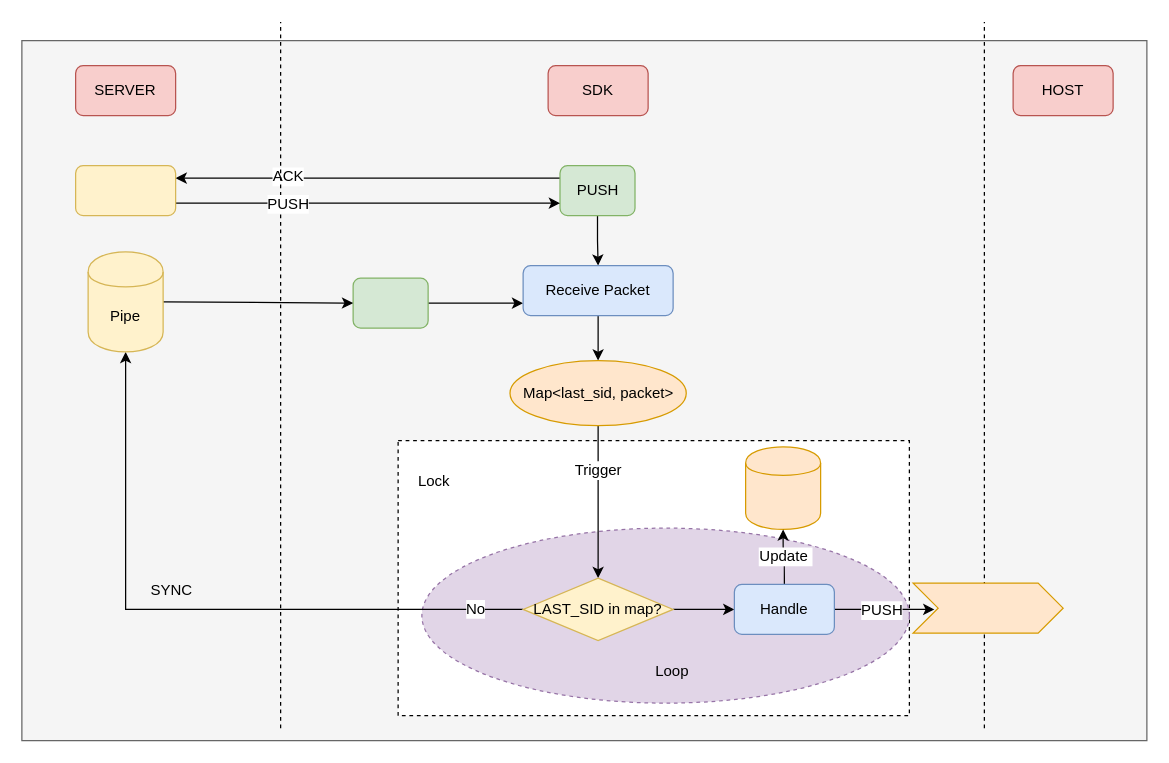
Image size: 1169x763. Some labels were removed from this diagram. The centre of each missing label's shape, as x and y in pixels:
Frontier: (125,190)
LAST_SID: (782,487)
PULL: (390,302)
push queue: (987,607)
